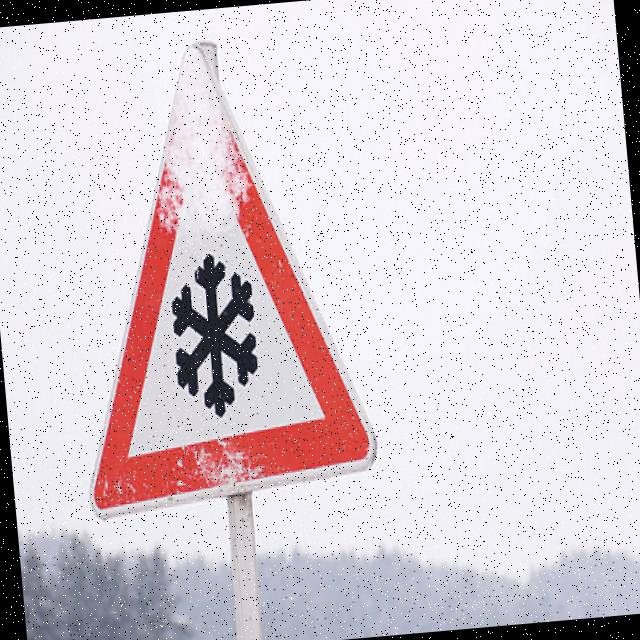snow_warning: (27, 14, 390, 534)
